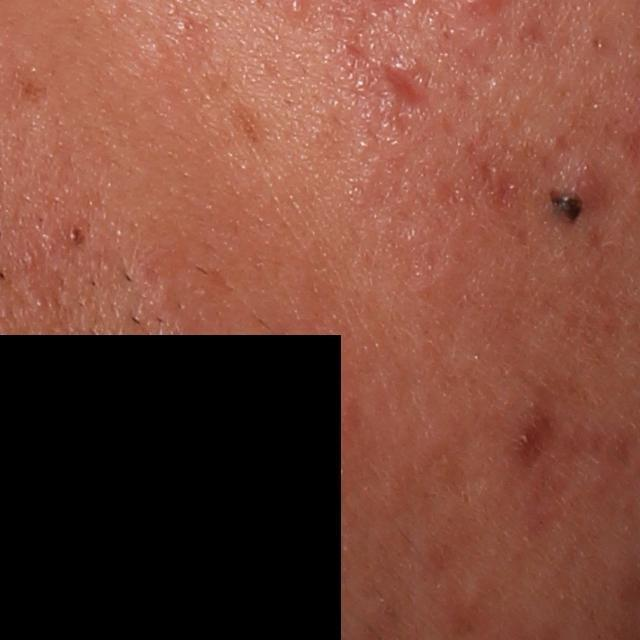atrophic_scar: (382, 62, 429, 107)
comedo: (584, 33, 608, 55)
